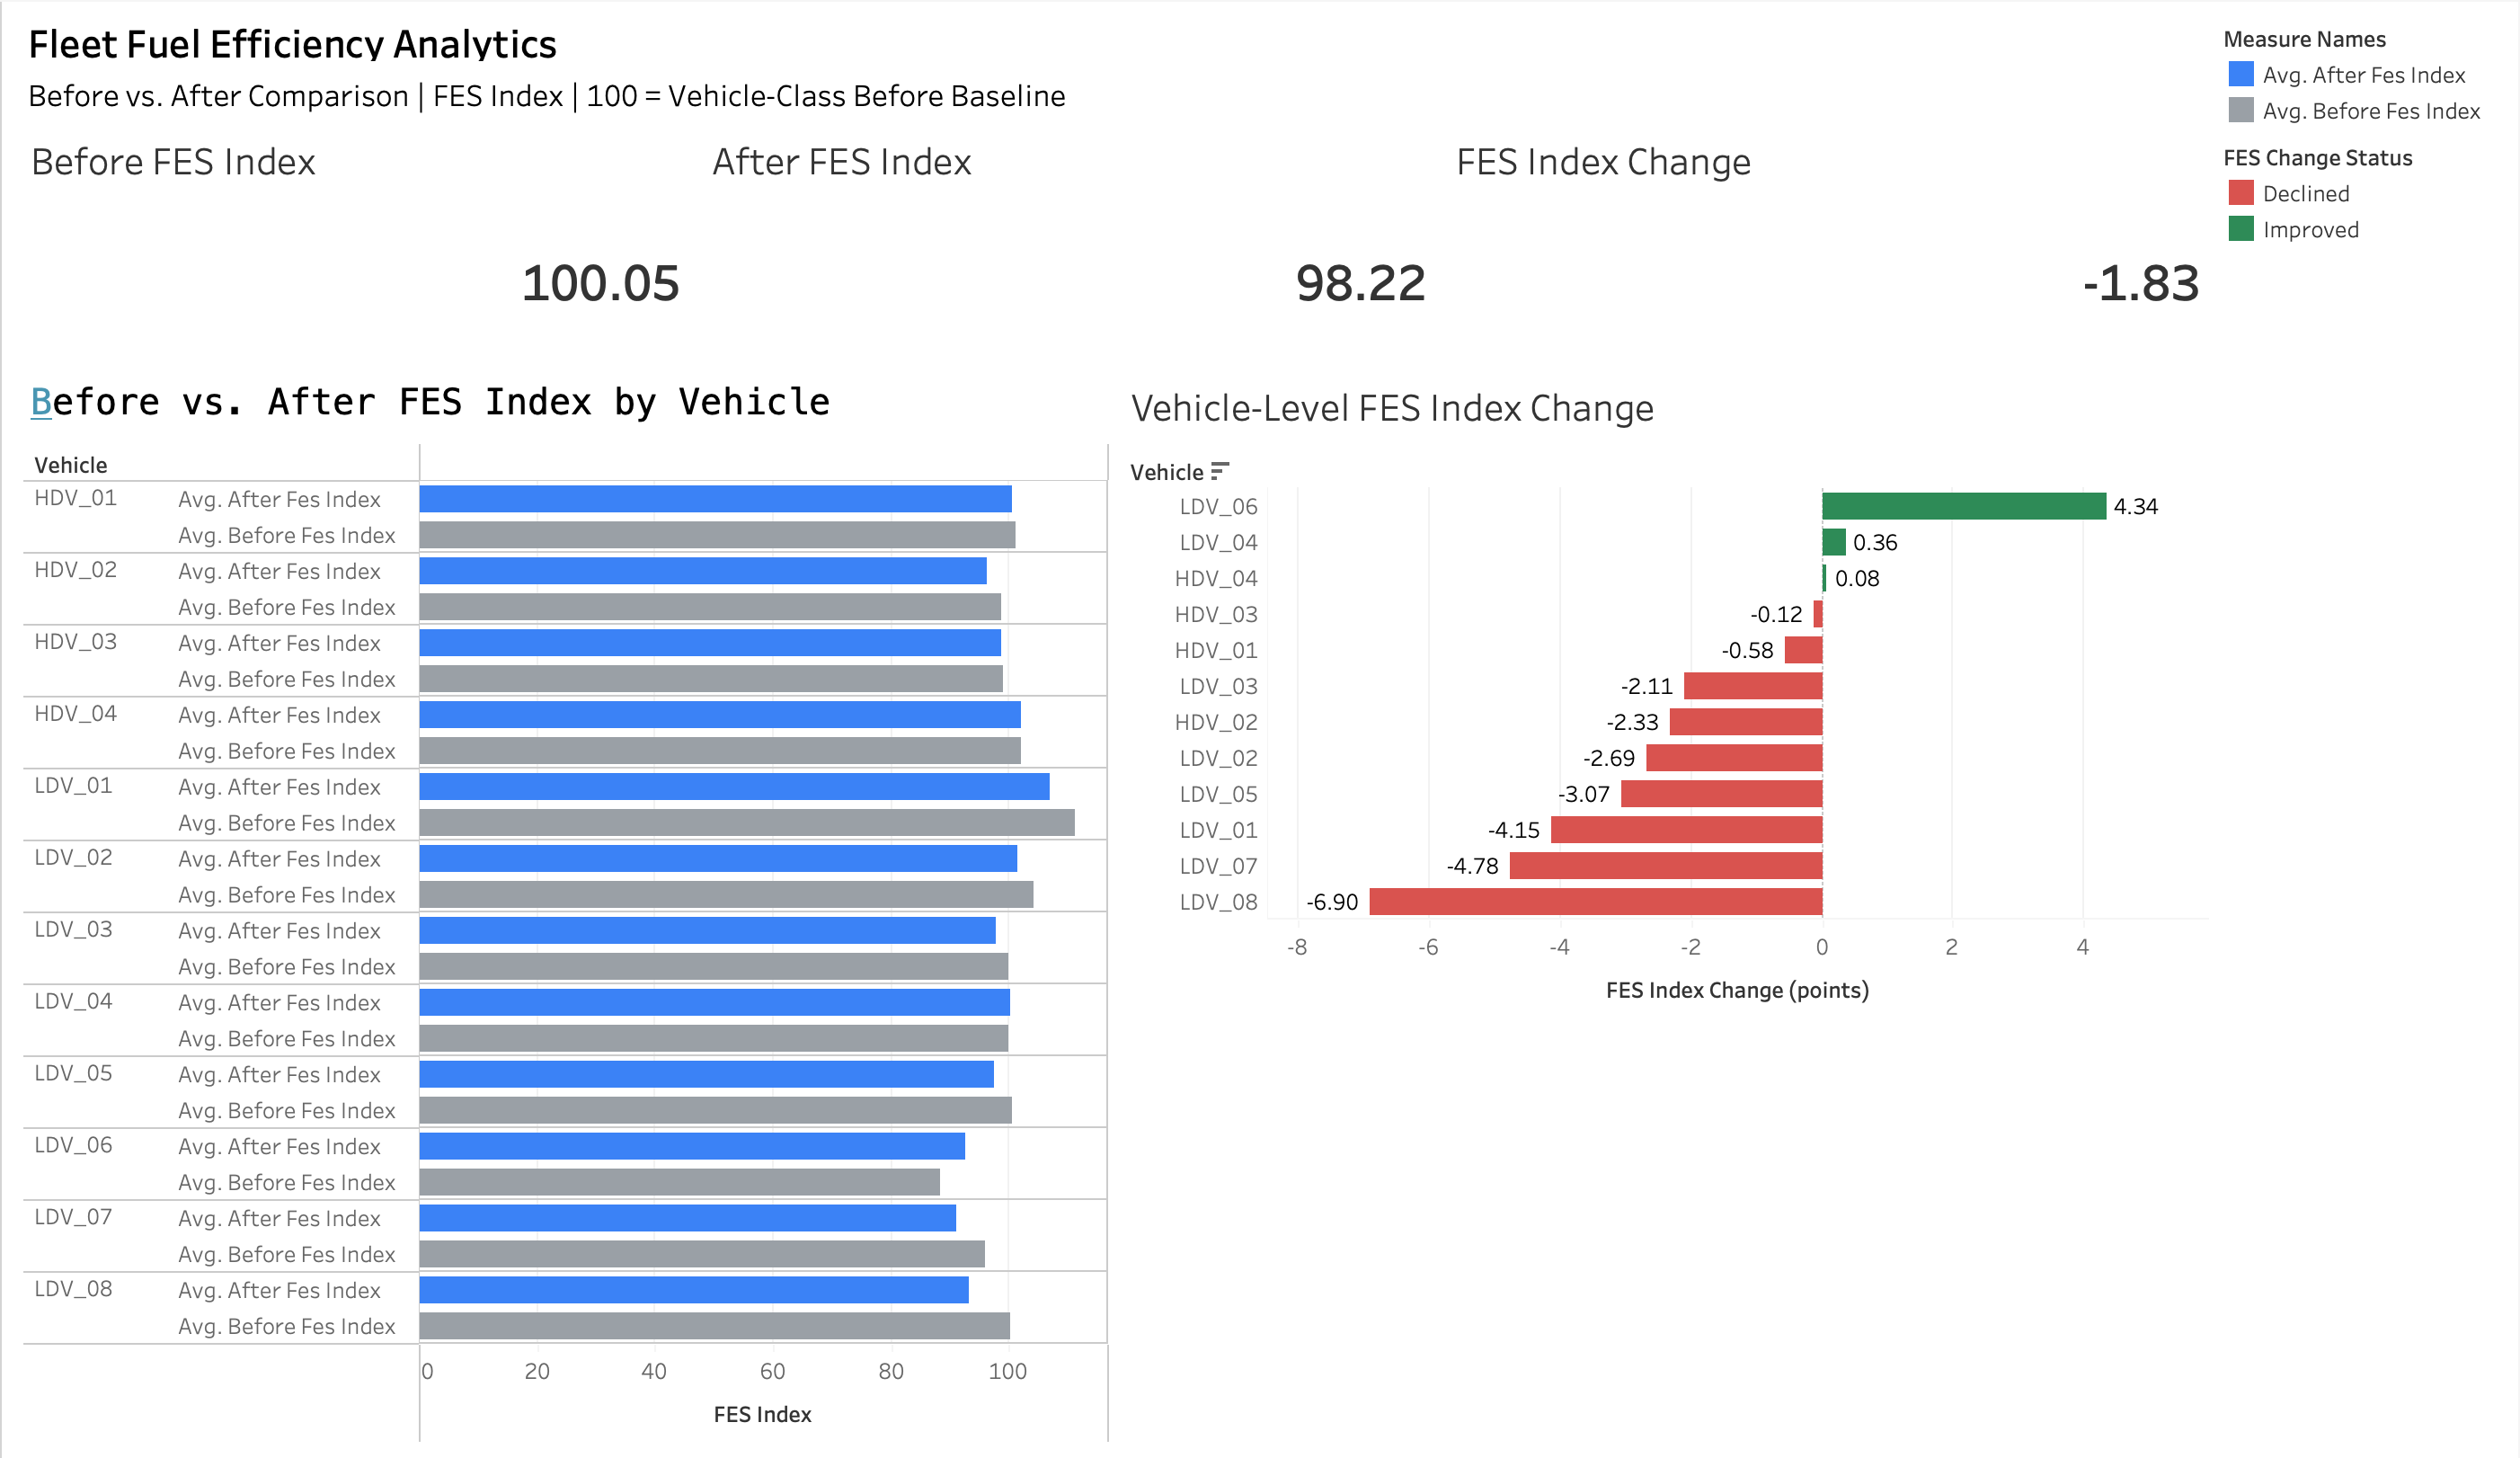

Layout of this report page (visuals, bound fields, positions):
{"tool":"tableau","page":{"name":"Dashboard - Fuel Analytics","canvas":[1000,1000],"units":"permille","ordinal":3},"visuals":[{"type":"text","box":[5.7,8.9,965.7,62.2]},{"type":"legend","title":"09 FES Change Ranking","param":"[federated.0992fnj1tse3bq1fruqfg14s3cs4].[sum:fes_change:qk]","box":[971.4,8.9,22.9,24.4]},{"type":"text","box":[5.7,71.1,965.7,35.6]},{"type":"worksheet","title":"06 KPI - Average FES Before","mark":"Automatic","box":[5.7,106.7,482.9,121.1]},{"type":"worksheet","title":"07 KPI - Average FES After","mark":"Automatic","box":[488.6,106.7,482.9,121.1]},{"type":"worksheet","title":"10 Top Performing Vehicles","mark":"Automatic","rows":["vehicle"],"cols":["after_fei_lite"],"box":[5.7,227.8,482.9,211.1]},{"type":"worksheet","title":"11 Bottom Performing Vehicles ","mark":"Automatic","rows":["vehicle"],"cols":["after_fei_lite"],"box":[488.6,227.8,482.9,211.1]},{"type":"worksheet","title":"08 Vehicle FES Comparison","mark":"Automatic","rows":["vehicle"],"box":[5.7,438.9,965.7,358.9]},{"type":"worksheet","title":"09 FES Change Ranking","mark":"Bar","rows":["vehicle"],"cols":["fes_change"],"box":[5.7,797.8,965.7,193.3]}]}

Visuals, with their boxes on the dashboard's canvas, which has no fixed pixel size, in thousandths of its width and height (x1, y1, x2, y2). These are canvas units, not pixel positions in the 2520x1458 screenshot, which may show the page scaled, cropped or inside an application window:
text: <region>6, 9, 971, 71</region>
"09 FES Change Ranking" legend: <region>971, 9, 994, 33</region>
text: <region>6, 71, 971, 107</region>
"06 KPI - Average FES Before" worksheet: <region>6, 107, 489, 228</region>
"07 KPI - Average FES After" worksheet: <region>489, 107, 972, 228</region>
"10 Top Performing Vehicles" worksheet: <region>6, 228, 489, 439</region>
"11 Bottom Performing Vehicles " worksheet: <region>489, 228, 972, 439</region>
"08 Vehicle FES Comparison" worksheet: <region>6, 439, 971, 798</region>
"09 FES Change Ranking" worksheet (Bar marks): <region>6, 798, 971, 991</region>
